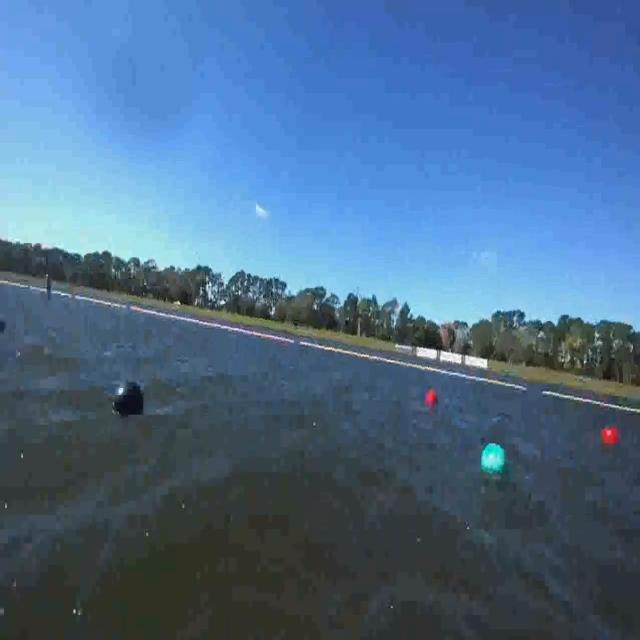black-buoy: (110, 376, 146, 420)
green-buoy: (480, 444, 506, 476)
red-buoy: (603, 426, 621, 444), (426, 389, 438, 406)
